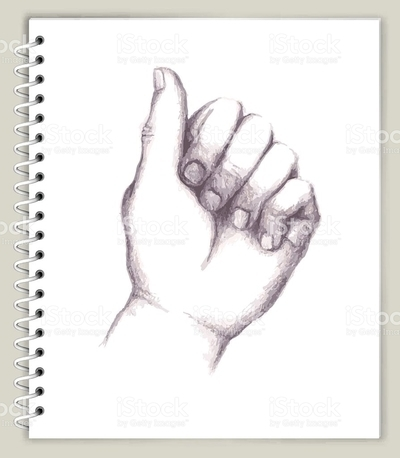closedhandfront: (102, 59, 329, 338)
